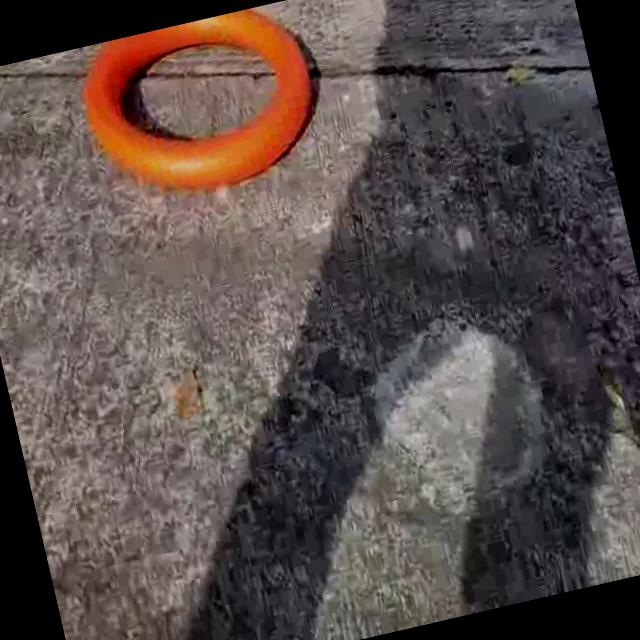note: (69, 0, 335, 216)
